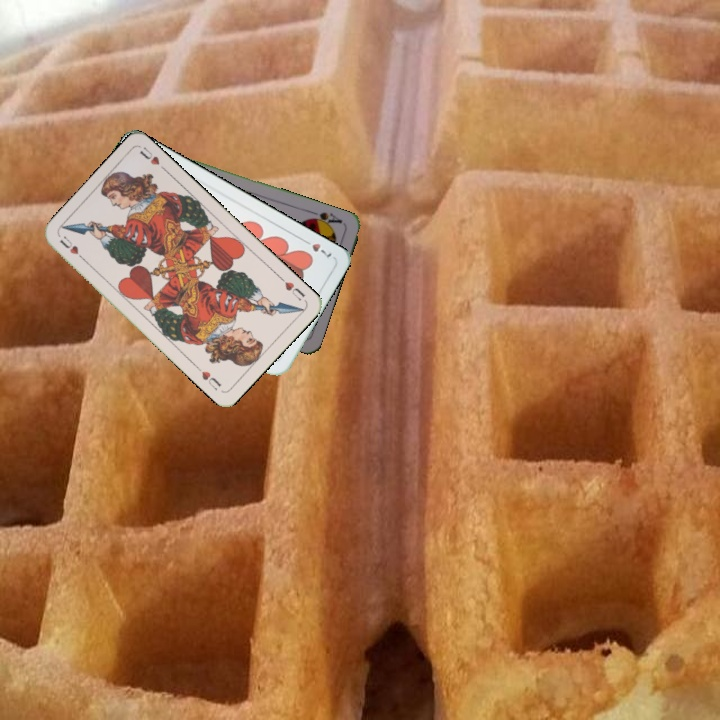H7: (298, 235, 335, 262)
HU: (275, 272, 308, 304), (56, 232, 88, 264)
SA: (304, 207, 345, 230)
